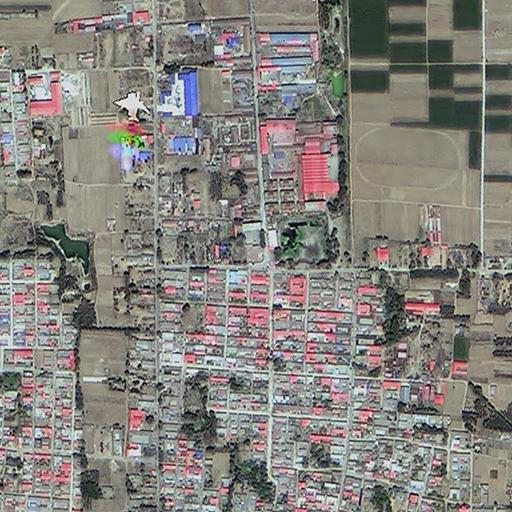school: (229, 216, 265, 264)
